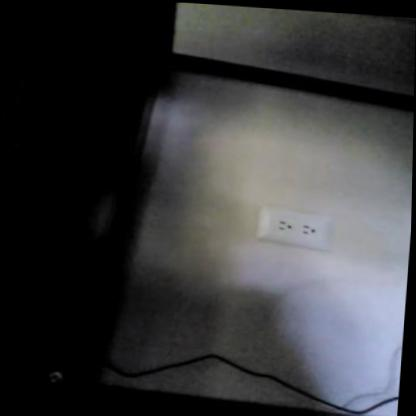OUTLET: (255, 206, 332, 247)
